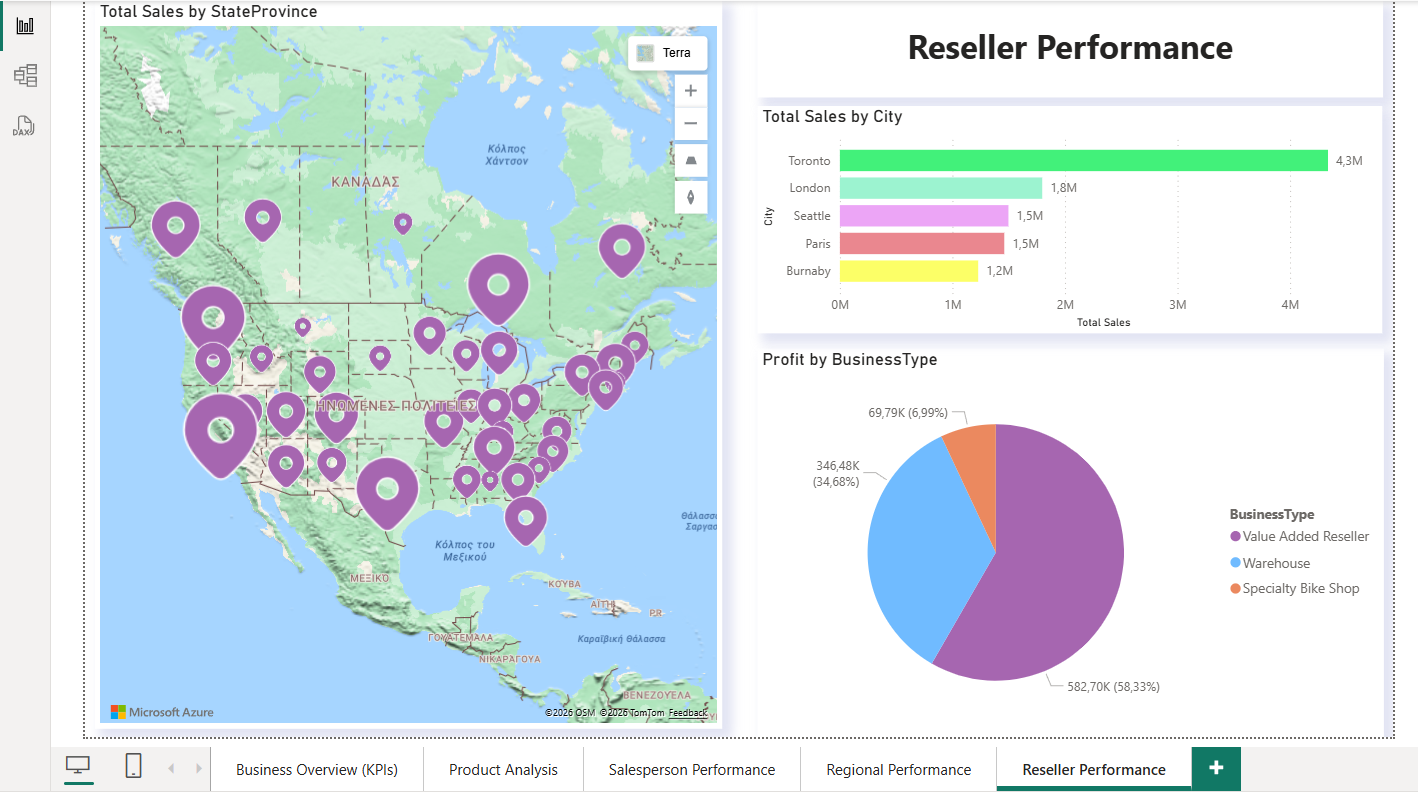

The dashboard page shown, as its layout file describes it:
{"tool":"powerbi","page":{"name":"Reseller Performance","canvas":[1280,720],"ordinal":4},"visuals":[{"type":"pieChart","fields":{"Category":["DimReseller.BusinessType"],"Y":["FactSales.Profit"]},"box":[657.9,339.9,612.6,380.3],"z":0},{"type":"azureMap","fields":{"Category":["DimReseller.StateProvince"],"Size":["FactSales.Total Sales"]},"box":[9.8,0,613.9,711.7],"z":1000},{"type":"textbox","box":[657.3,0,611.6,94],"z":2000},{"type":"barChart","fields":{"Category":["DimReseller.City"],"Y":["FactSales.Total Sales"]},"box":[657.9,102.7,611.4,222.6],"z":3000}]}

Visuals, with their boxes on the page's 1280x720 design canvas (x1, y1, x2, y2). These are canvas units, not pixel positions in the 1418x792 screenshot, which may show the page scaled, cropped or inside an application window:
pieChart - DimReseller.BusinessType x FactSales.Profit: (658, 340, 1270, 720)
azureMap - DimReseller.StateProvince x FactSales.Total Sales: (10, 0, 624, 712)
textbox: (657, 0, 1269, 94)
barChart - DimReseller.City x FactSales.Total Sales: (658, 103, 1269, 325)
